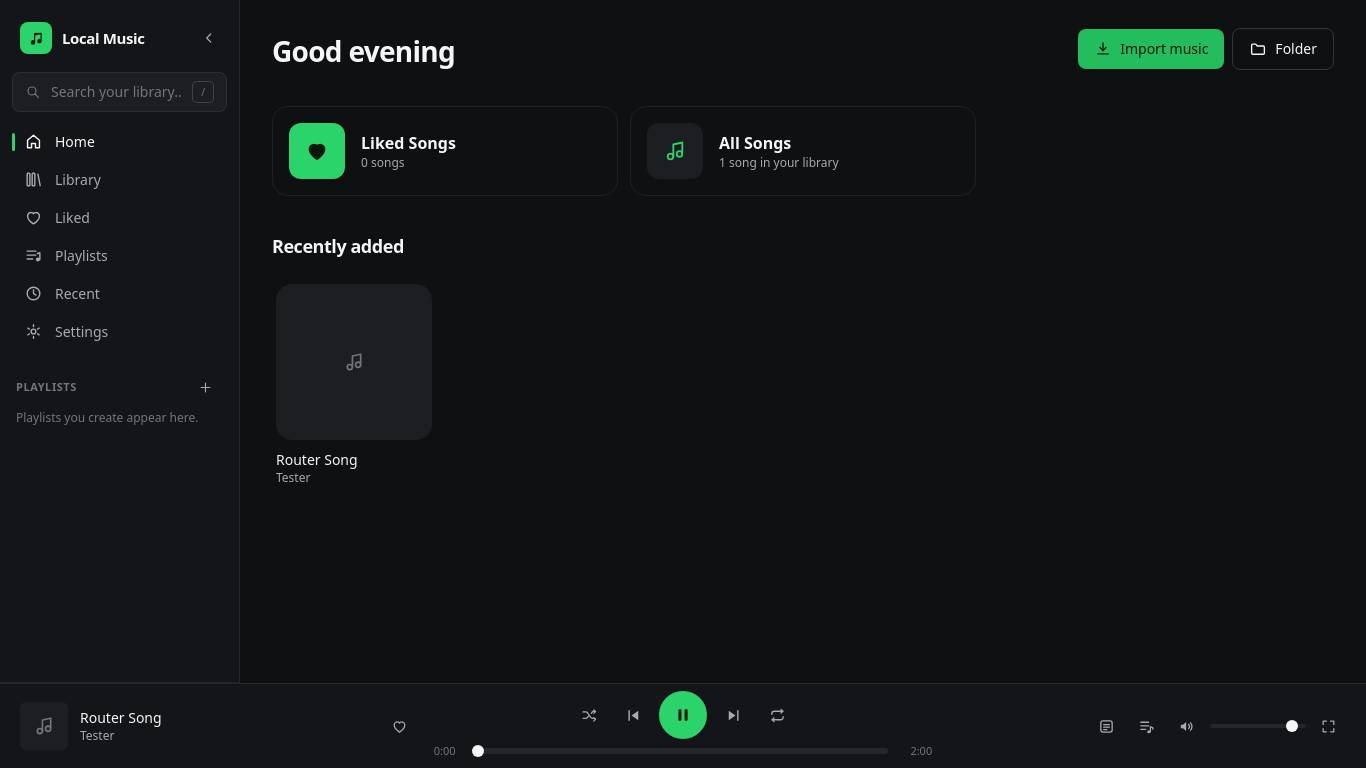
Test: persistent playback across route changes › keeps playback state while navigating between primary routes
Click the link "Library" at x=62, y=179, box x1=24 y1=170 x2=101 y2=189
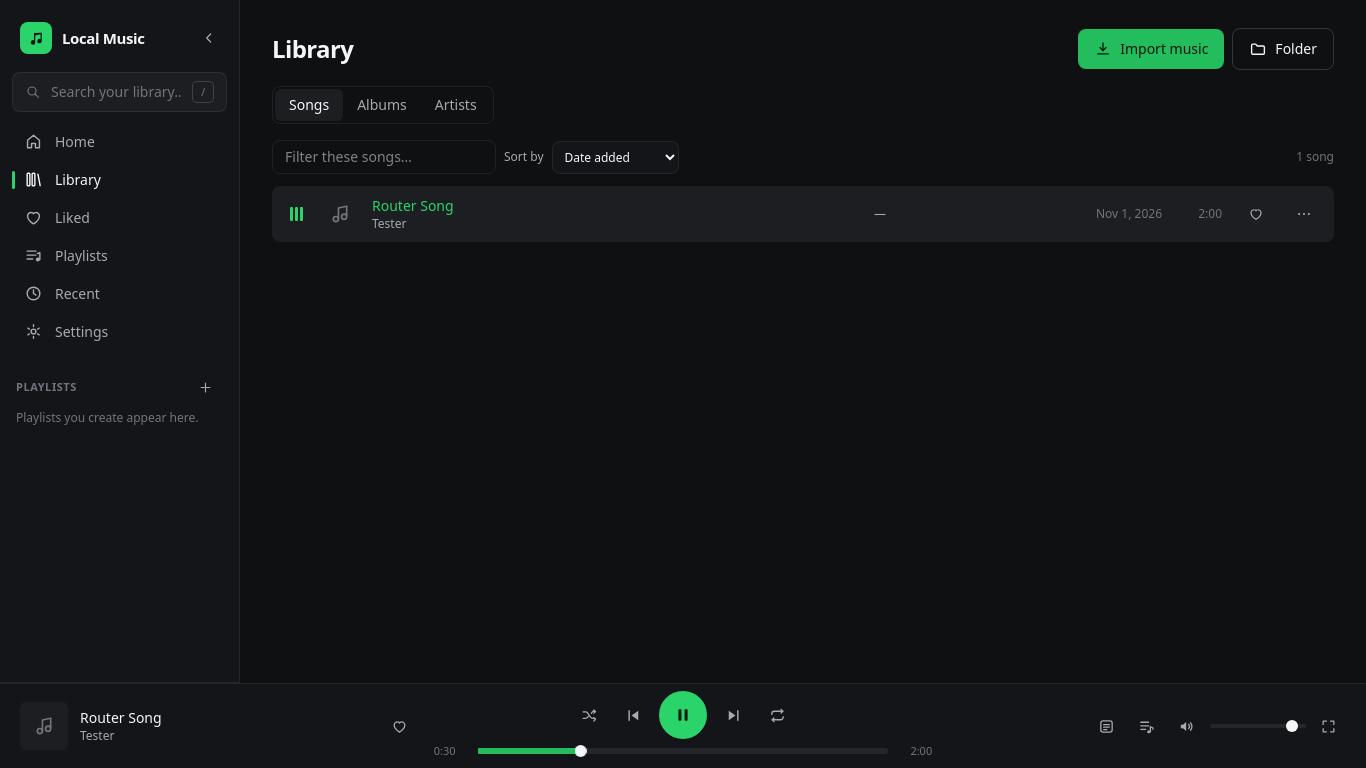
Expected: the heading "Library" is shown, x1=272 y1=33 x2=353 y2=65
Click the link "Settings" at x=66, y=331, box x1=24 y1=322 x2=108 y2=341
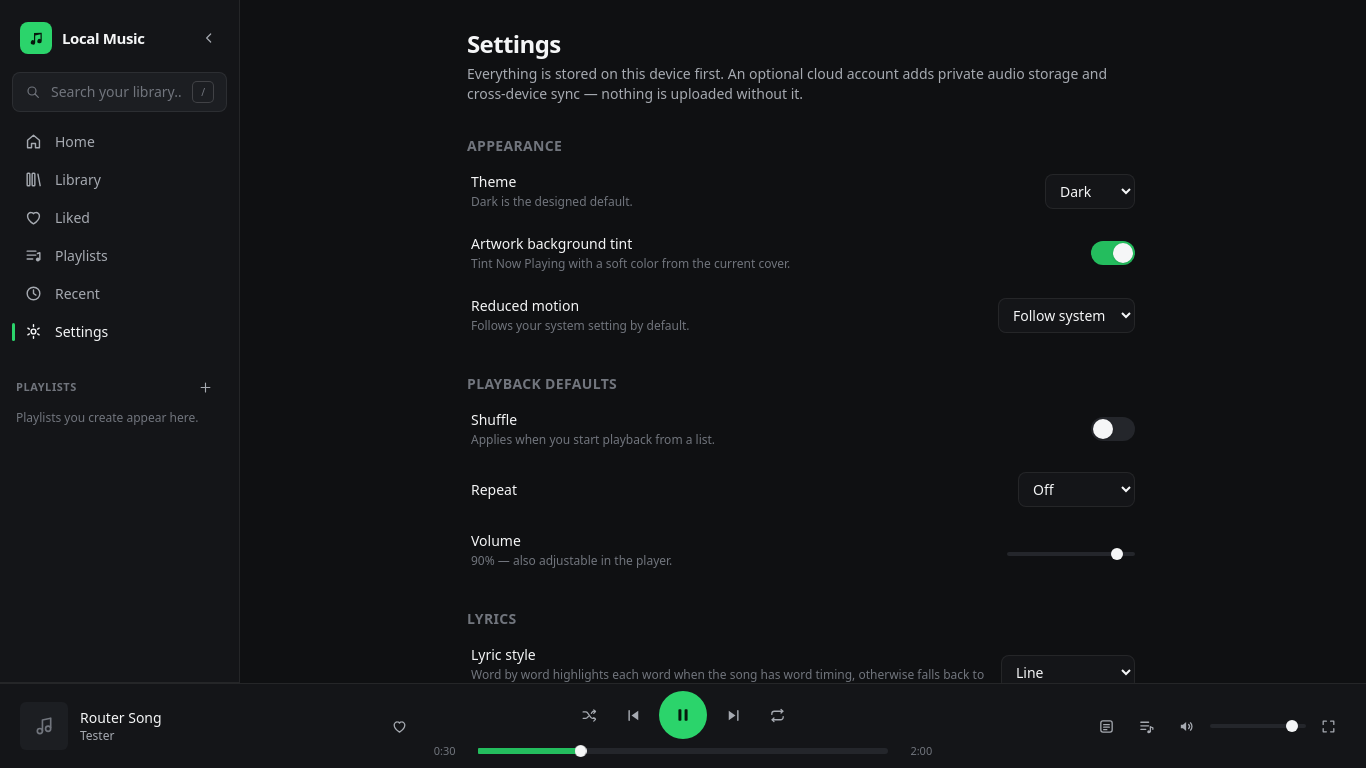
Expected: the heading "Settings" is shown, x1=467 y1=27 x2=561 y2=60
